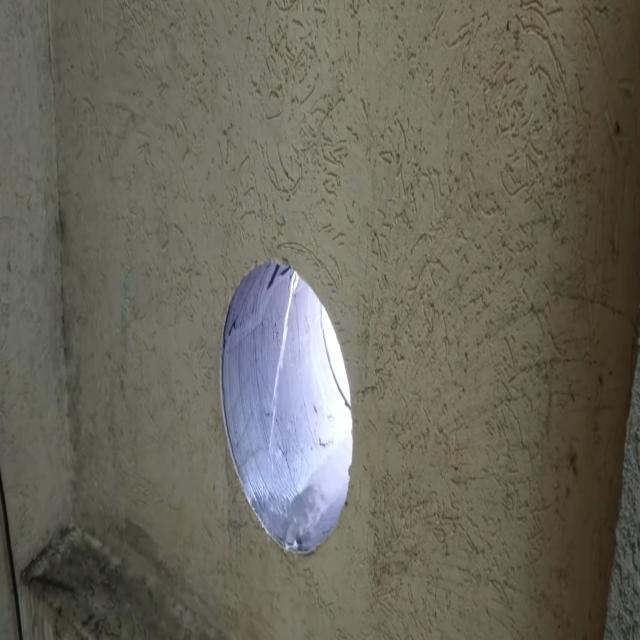leak: (269, 271, 299, 450)
